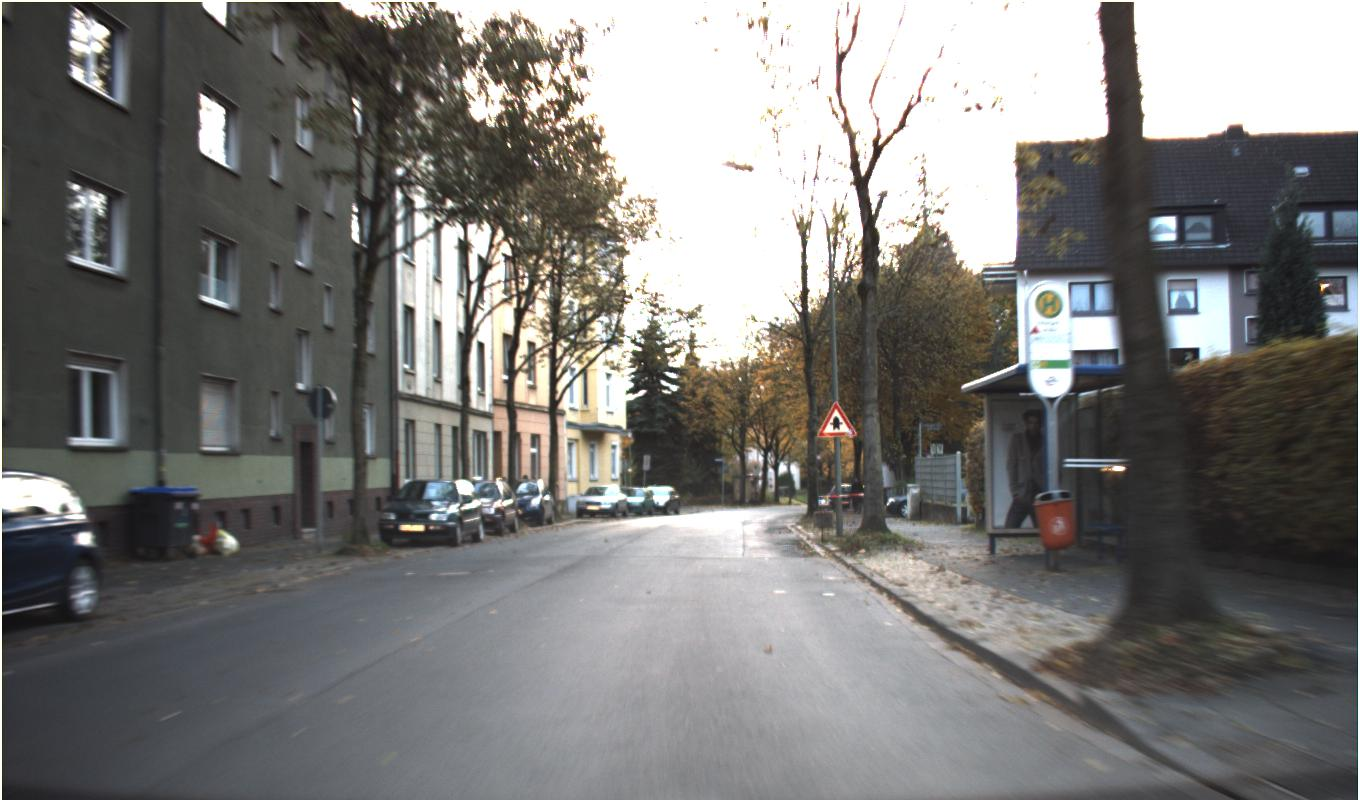danger: (816, 401, 857, 437)
